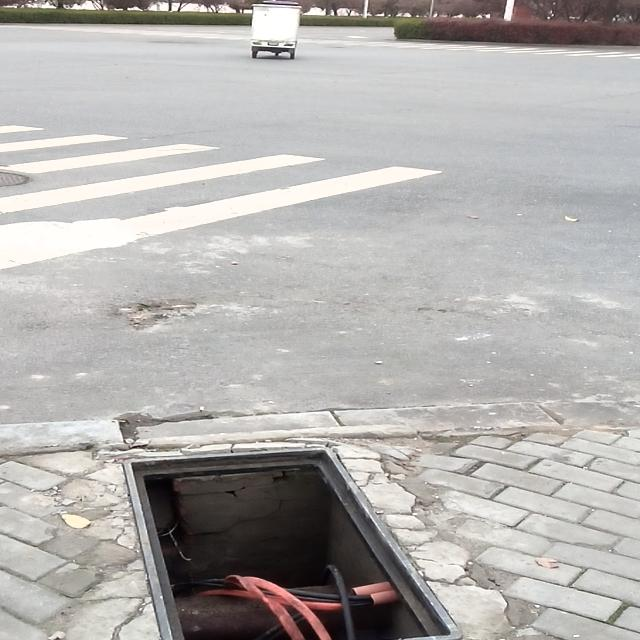lose: (120, 446, 468, 640)
